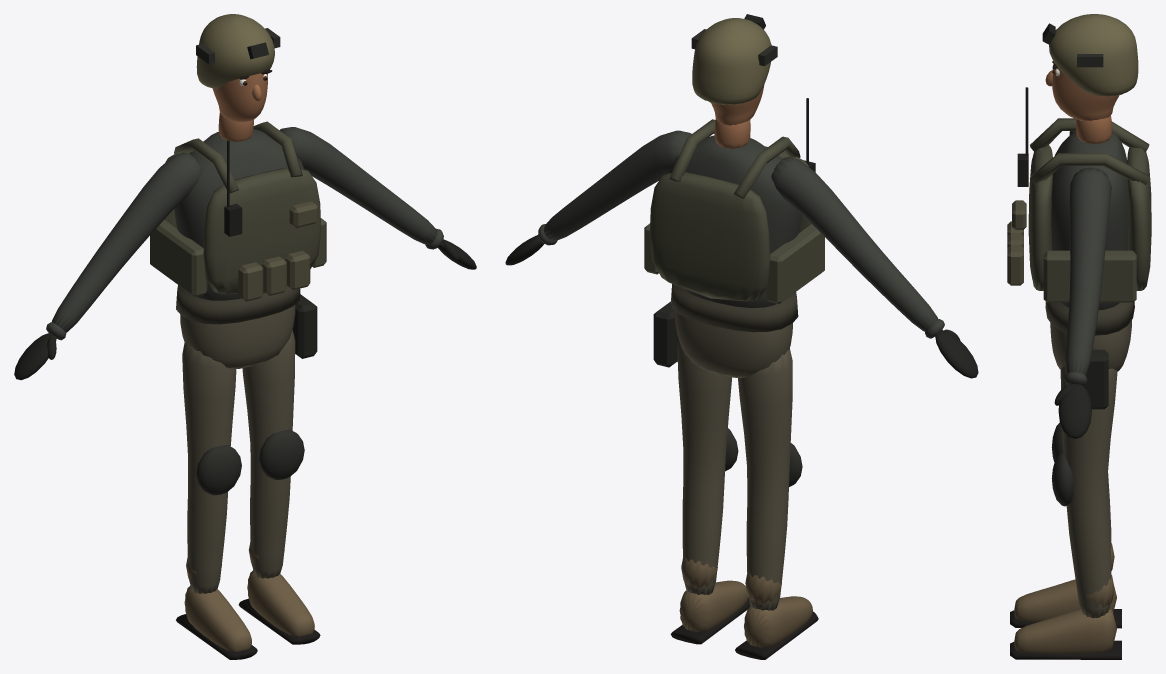
Rendered from diego_ramos.glb.
3 views of the same model, side by side, from view 1: azimuth 30°, elevation 25°; view 2: azimuth 150°, elevation 25°; view 3: azimuth 270°, elevation 25° (orthographic). The views are drawn at different scales.
Visible parts, largest first — view 1: diego_ramos; view 2: diego_ramos; view 3: diego_ramos.
Part boxes in pixels (<box>): diego_ramos: <box>14,14,476,659</box>; diego_ramos: <box>505,14,978,659</box>; diego_ramos: <box>1007,14,1151,659</box>.
Bounding box in the file's own units: 1.51 × 1.9 × 0.4006.
